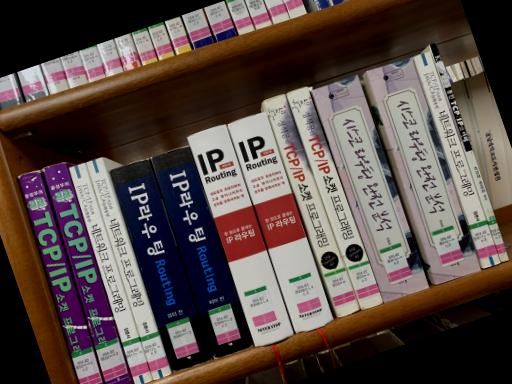book-spine: (310, 73, 429, 302), (367, 56, 482, 283), (188, 123, 294, 346), (228, 111, 333, 331), (150, 145, 254, 359), (109, 158, 212, 372), (262, 92, 359, 317), (286, 86, 384, 308), (42, 162, 132, 384), (86, 157, 172, 380), (68, 162, 153, 384), (414, 50, 500, 267), (18, 170, 103, 384), (427, 42, 509, 261)
